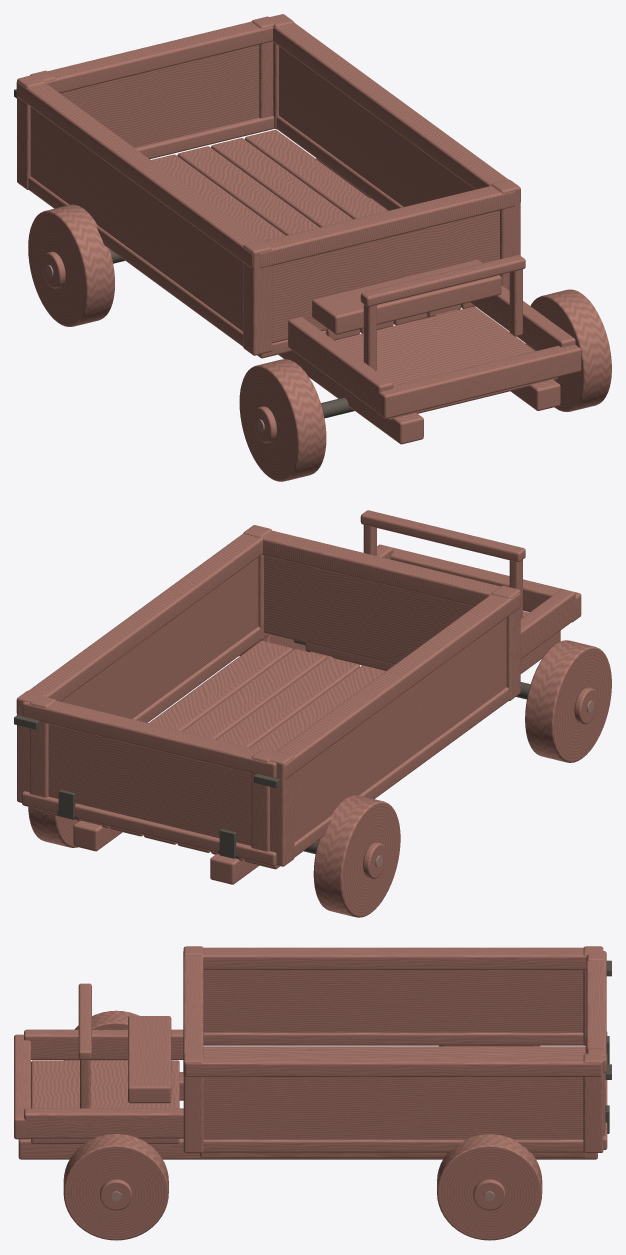
The model's file is zombie-wood-cart.glb.
3 views of the same model, one above another, from view 1: azimuth 30°, elevation 25°; view 2: azimuth 150°, elevation 25°; view 3: azimuth 270°, elevation 25° (orthographic). The views are drawn at different scales.
Visible parts, largest first — view 1: side_panel_-1, rear_gate_panel, side_panel_1, cargo_front_partition, driver_floor, side_top_rail_-1, solid_wheel_TrueFalse, solid_wheel_FalseFalse, side_top_rail_1, partition_top_cap, driver_front_lip, rear_gate_top_rail (+23 smaller); view 2: side_panel_-1, rear_gate_panel, cargo_front_partition, side_panel_1, side_top_rail_-1, solid_wheel_TrueFalse, solid_wheel_FalseFalse, side_top_rail_1, partition_top_cap, rear_gate_top_rail, rear_floor_plank_04, rear_floor_plank_06 (+20 smaller); view 3: side_panel_-1, side_panel_1, side_top_rail_1, side_top_rail_-1, solid_wheel_TrueTrue, solid_wheel_FalseTrue, driver_floor, side_bottom_rail_-1, front_long_timber_1, side_bottom_rail_1, driver_seat, rear_floor_plank_00 (+14 smaller).
Boxes of the visible parts, x1,y1,x2,y2 form: side_panel_-1: (30,107,242,331); rear_gate_panel: (60,45,259,147); side_panel_1: (279,46,474,206); cargo_front_partition: (272,210,499,343); driver_floor: (334,306,557,420); side_top_rail_-1: (16,81,259,268); solid_wheel_TrueFalse: (239,359,326,481); solid_wheel_FalseFalse: (28,204,114,326); side_top_rail_1: (273,22,520,201); partition_top_cap: (259,185,515,268); driver_front_lip: (376,344,581,418); rear_gate_top_rail: (29,17,273,93); side_panel_-1: (294,618,506,842); rear_gate_panel: (48,724,251,845); cargo_front_partition: (264,555,473,664); side_panel_1: (61,557,258,718); side_top_rail_-1: (277,592,520,779); solid_wheel_TrueFalse: (525,640,611,762); solid_wheel_FalseFalse: (313,795,400,917); side_top_rail_1: (16,533,262,713); partition_top_cap: (262,530,500,606); rear_gate_top_rail: (22,700,276,777); rear_floor_plank_04: (110,657,359,836); rear_floor_plank_06: (43,640,292,819); side_panel_-1: (203,970,583,1032); side_panel_1: (203,1077,583,1139); side_top_rail_1: (184,1054,602,1076); side_top_rail_-1: (202,947,586,969); solid_wheel_TrueTrue: (63,1134,168,1240); solid_wheel_FalseTrue: (437,1134,542,1240); driver_floor: (31,1060,179,1143); side_bottom_rail_-1: (203,1032,583,1045); front_long_timber_1: (24,1108,183,1138); side_bottom_rail_1: (203,1139,583,1152); driver_seat: (128,1016,171,1103); rear_floor_plank_00: (203,1046,585,1054).
Bounding box in the file's own units: 2.18 × 1.21 × 3.86.
Materials: 4 (2 with a texture image).
